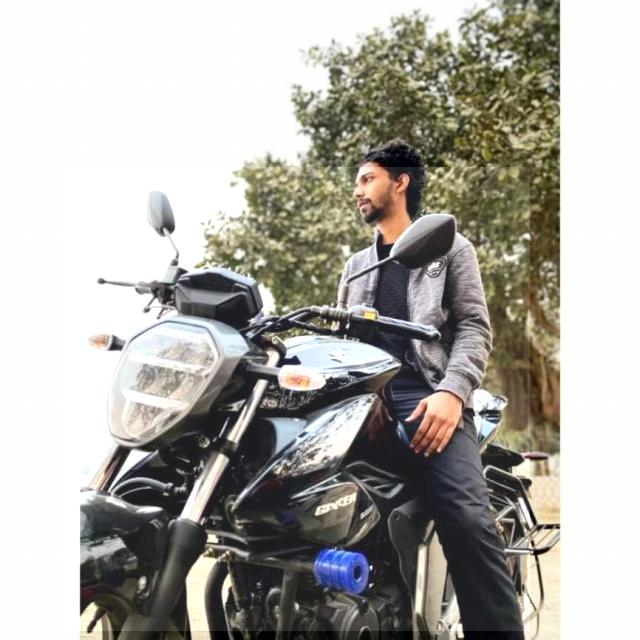Bike: (62, 168, 530, 632)
